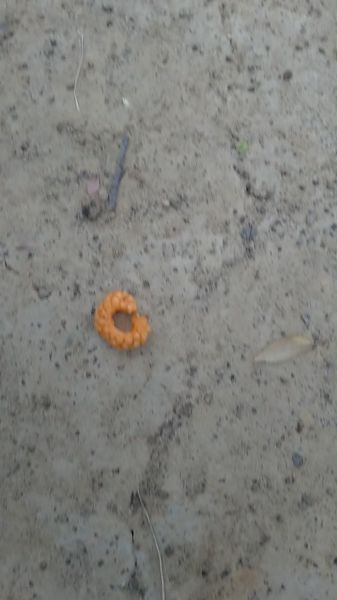eggs: (92, 281, 158, 353)
